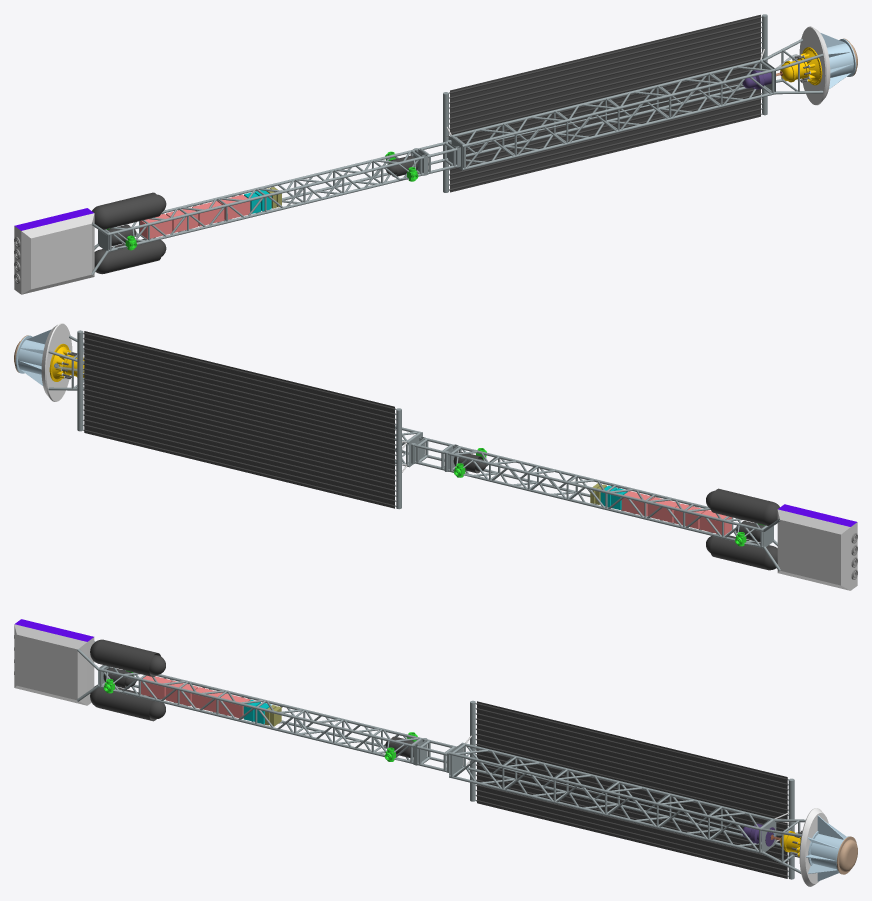
File: space-nuclear.glb
The picture shows the model from 3 angles, top to bottom: view 1: azimuth 30°, elevation 25°; view 2: azimuth 150°, elevation 25°; view 3: azimuth 330°, elevation 25°; orthographic projection.
Visible parts, largest first — view 1: NEP_Concept_20260903-1; view 2: NEP_Concept_20260903-1; view 3: NEP_Concept_20260903-1.
Boxes of the visible parts, x1,y1,x2,y2 form: NEP_Concept_20260903-1: (14, 14, 857, 294); NEP_Concept_20260903-1: (14, 323, 857, 590); NEP_Concept_20260903-1: (14, 619, 857, 886).
Bounding box in the file's own units: 34.27 × 4 × 2.05.
